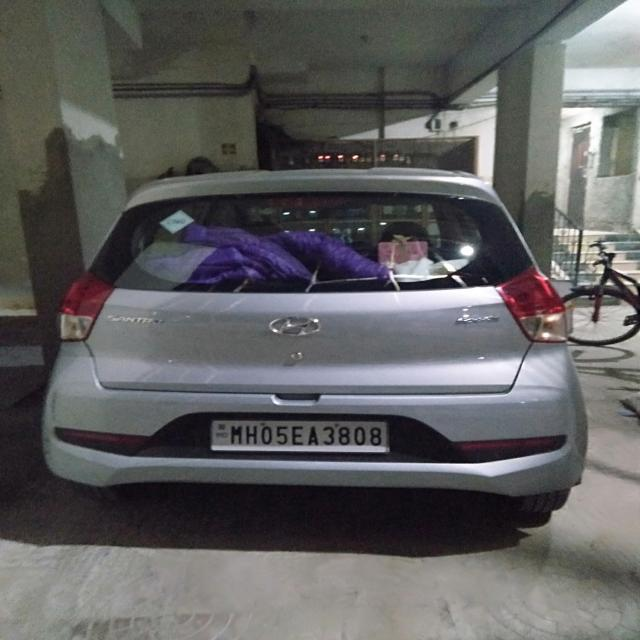Number-Plate: (214, 419, 390, 451)
